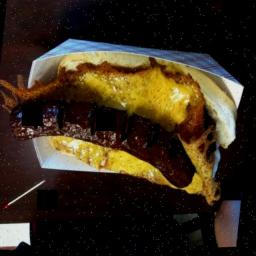hotdog: (5, 86, 202, 196)
